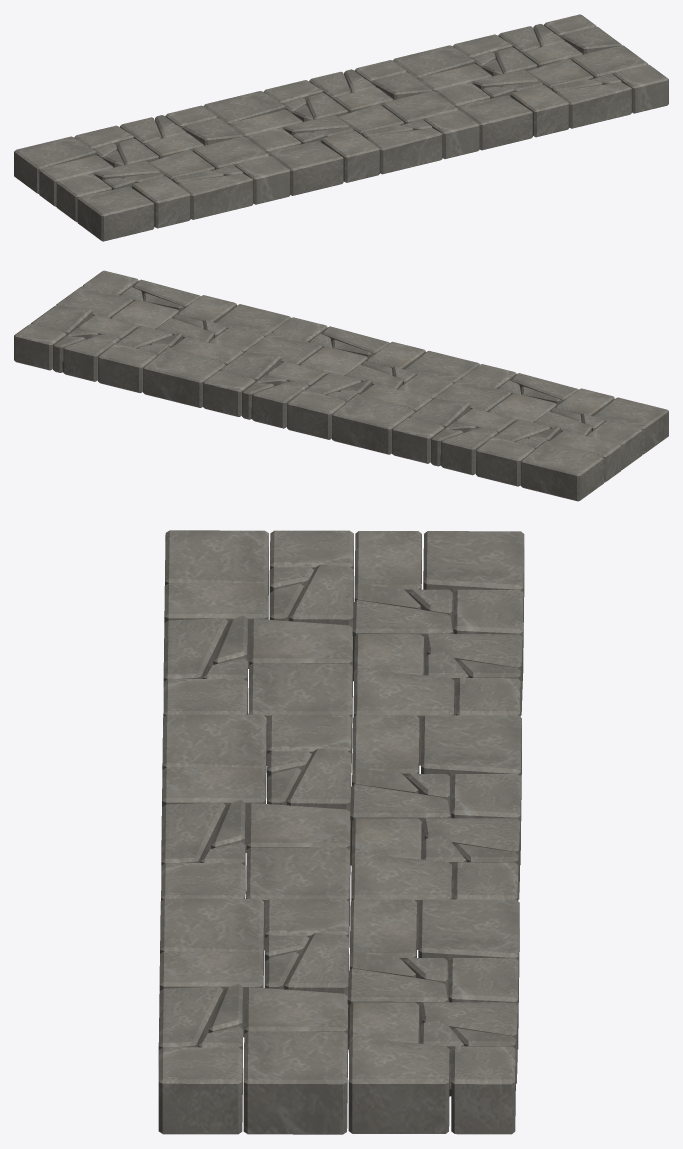
The model's file is SM_bridge.fbx.
3 renders of one model, top to bottom at view 1: azimuth 30°, elevation 25°; view 2: azimuth 150°, elevation 25°; view 3: azimuth 270°, elevation 25°, orthographic. The views are drawn at different scales.
Parts seen in each view (by area): view 1: SM_bridge3; view 2: SM_bridge3; view 3: SM_bridge3.
Part boxes in pixels (x1=…): SM_bridge3: x1=14, y1=14, x2=668, y2=241; SM_bridge3: x1=14, y1=270, x2=668, y2=501; SM_bridge3: x1=158, y1=530, x2=524, y2=1134.
Bounding box in the file's own units: 16.4 × 0.8901 × 4.58.
